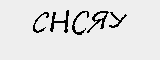Н: (48, 9, 73, 35)
С: (70, 7, 90, 38), (32, 10, 49, 36)
У: (108, 9, 127, 32)
Я: (86, 8, 109, 34)
